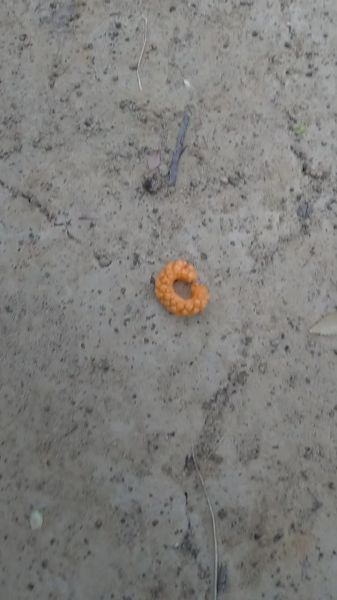eggs: (152, 254, 212, 324)
